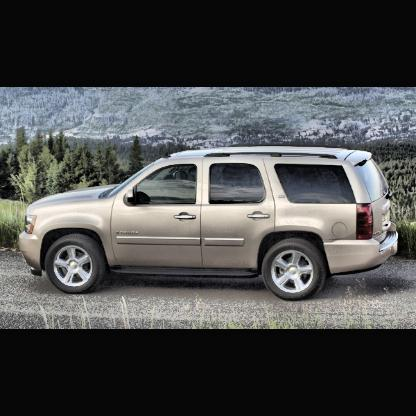Chevrolet Tahoe Hybrid SUV 2012: (20, 146, 400, 301)
